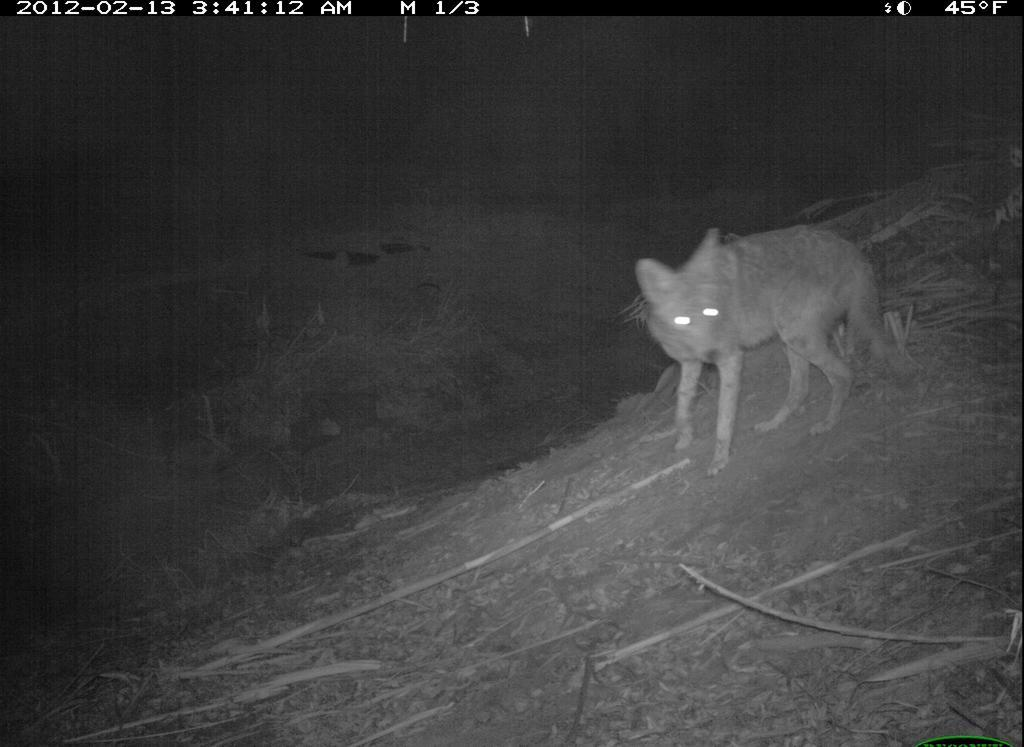coyote: (629, 222, 922, 478)
